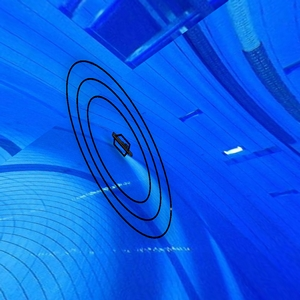circle: (59, 54, 192, 251)
submarine: (106, 129, 136, 162)
